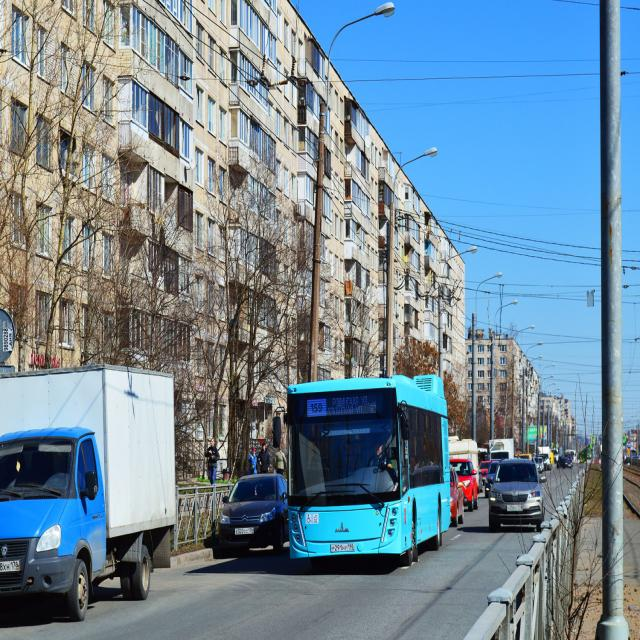number-of-bus: (311, 402, 324, 416)
